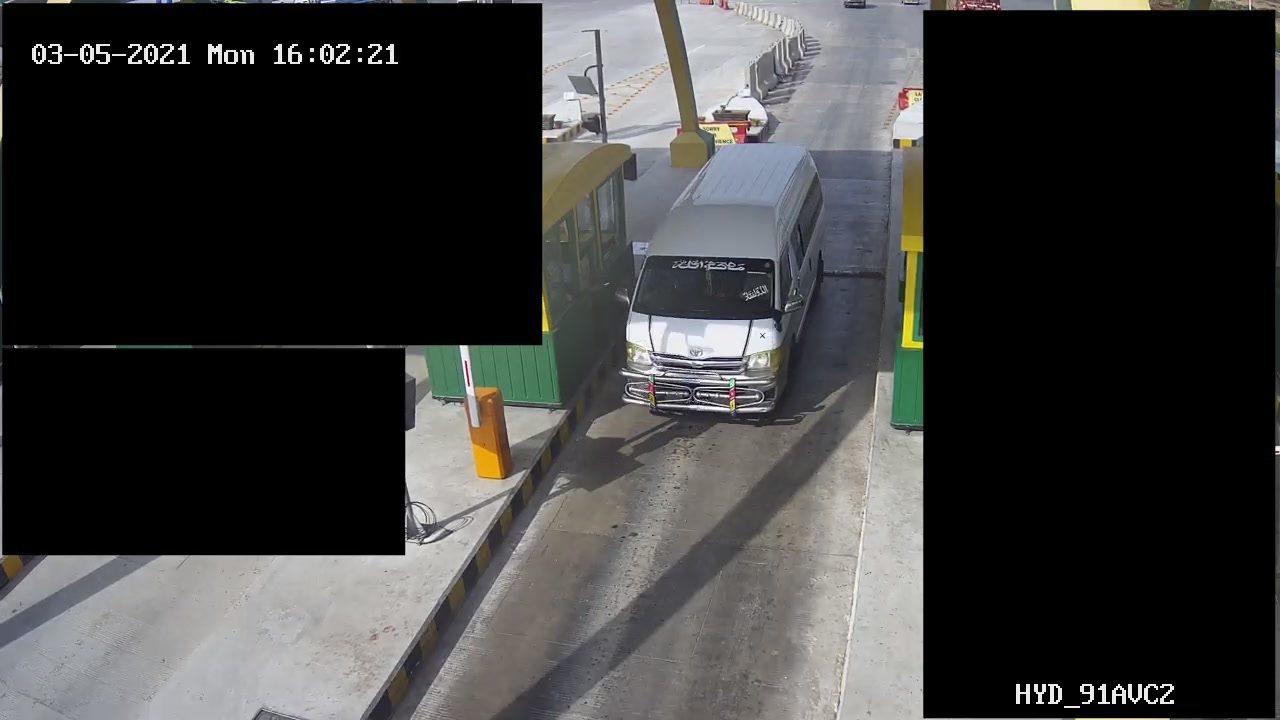F2: (623, 141, 828, 427)
